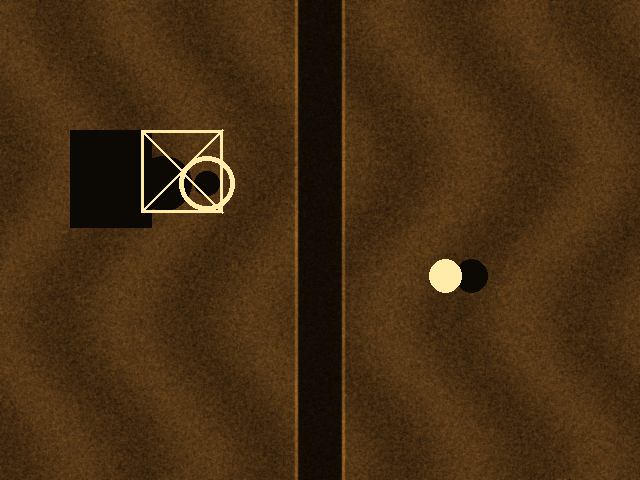Abandoned Equipment: (141, 130, 222, 212)
Glass Debris: (429, 259, 461, 292)
Rubber Debris: (179, 156, 234, 210)
